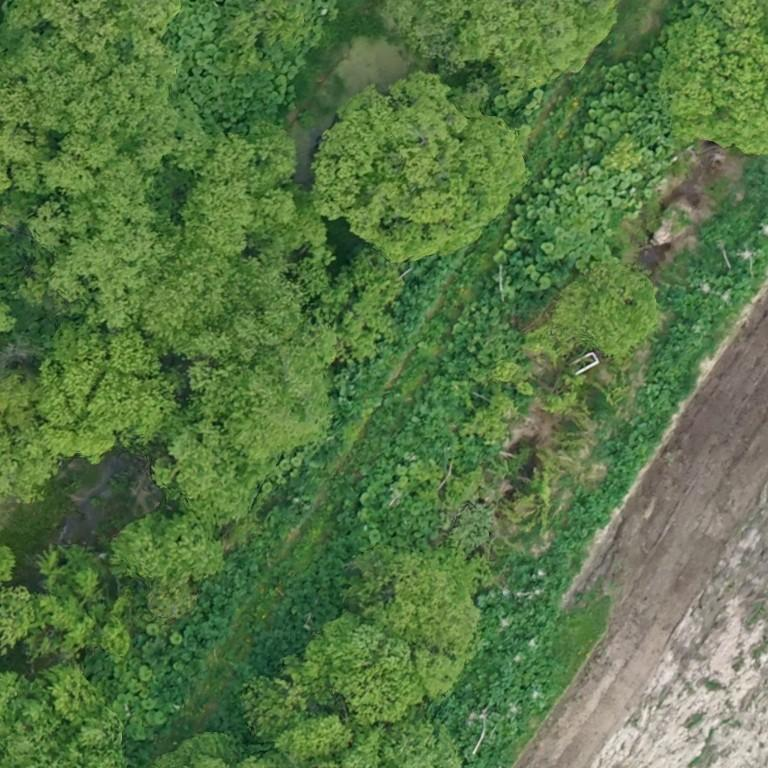hogweed: (441, 289, 727, 767), (136, 538, 263, 706), (394, 252, 460, 333), (716, 244, 766, 301)
